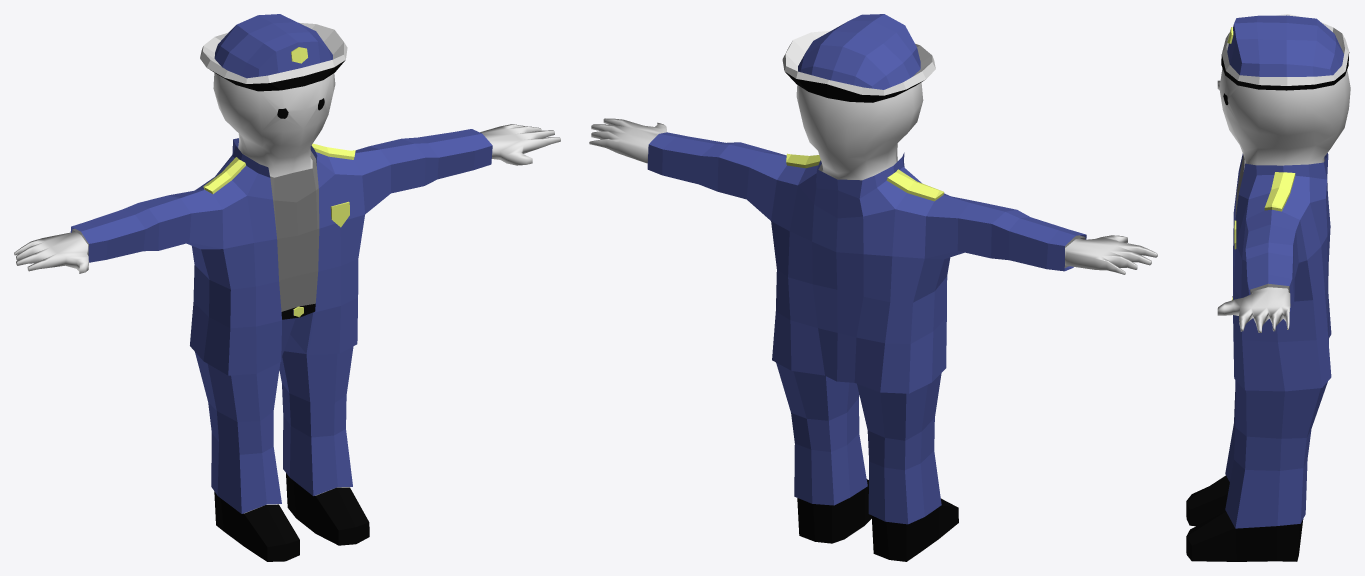
Rendered from cop.fbx.
3 views of the same model, side by side, from view 1: azimuth 30°, elevation 25°; view 2: azimuth 150°, elevation 25°; view 3: azimuth 270°, elevation 25° (orthographic). The views are drawn at different scales.
Parts seen in each view (by area): view 1: Cube.003, Cube.005, Cube, Cube.001, Cube.006, Cube.002; view 2: Cube.003, Cube.005, Cube, Cube.001, Cube.006; view 3: Cube.003, Cube.005, Cube, Cube.001, Cube.006, Cube.002.
Part boxes in pixels (x1,y1,x2,y2): Cube.003: (70,129,492,375); Cube.005: (195,312,353,513); Cube: (14,73,560,513); Cube.001: (200,14,347,91); Cube.006: (214,473,369,561); Cube.002: (72,150,319,311); Cube.003: (647,132,1086,393); Cube.005: (776,362,941,524); Cube: (589,82,1157,274); Cube.001: (782,14,935,102); Cube.006: (797,479,958,561); Cube.003: (1233,153,1331,391); Cube.005: (1225,380,1327,528); Cube: (1217,68,1350,332); Cube.001: (1221,14,1349,90); Cube.006: (1186,475,1303,561); Cube.002: (1235,155,1324,305).
Size of the model in its own units: 683 by 606 by 174.
